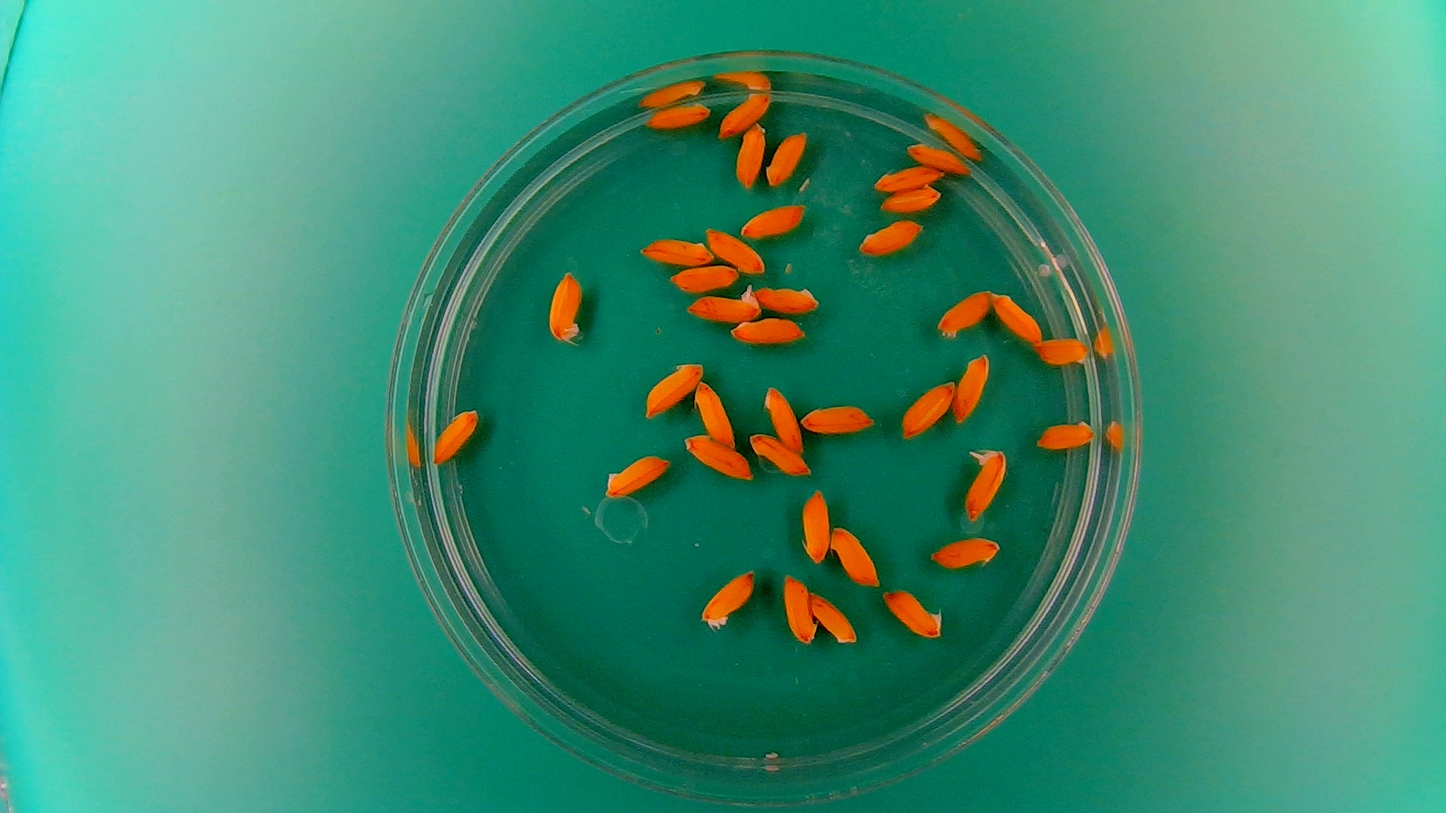no: (698, 565, 757, 632), (640, 358, 703, 419), (681, 430, 753, 482), (880, 586, 945, 641), (602, 450, 672, 499), (898, 379, 955, 439), (829, 523, 880, 587), (716, 87, 775, 141), (429, 405, 481, 466), (693, 376, 737, 448), (761, 382, 804, 455), (703, 225, 767, 274), (934, 285, 992, 339), (545, 266, 584, 345), (990, 289, 1045, 345), (748, 429, 812, 477), (729, 117, 768, 194), (952, 351, 993, 423), (808, 589, 859, 646), (739, 199, 808, 239), (764, 126, 809, 187), (929, 534, 1003, 571), (780, 570, 816, 646), (798, 400, 876, 435), (798, 484, 831, 566), (855, 218, 925, 256), (903, 139, 972, 176), (729, 315, 807, 346), (637, 235, 714, 266), (642, 99, 712, 132), (1033, 417, 1097, 452), (670, 263, 742, 294), (870, 162, 942, 193), (752, 282, 820, 314), (1033, 334, 1091, 367), (879, 184, 943, 213)
yes: (960, 443, 1009, 522), (688, 283, 761, 322)
